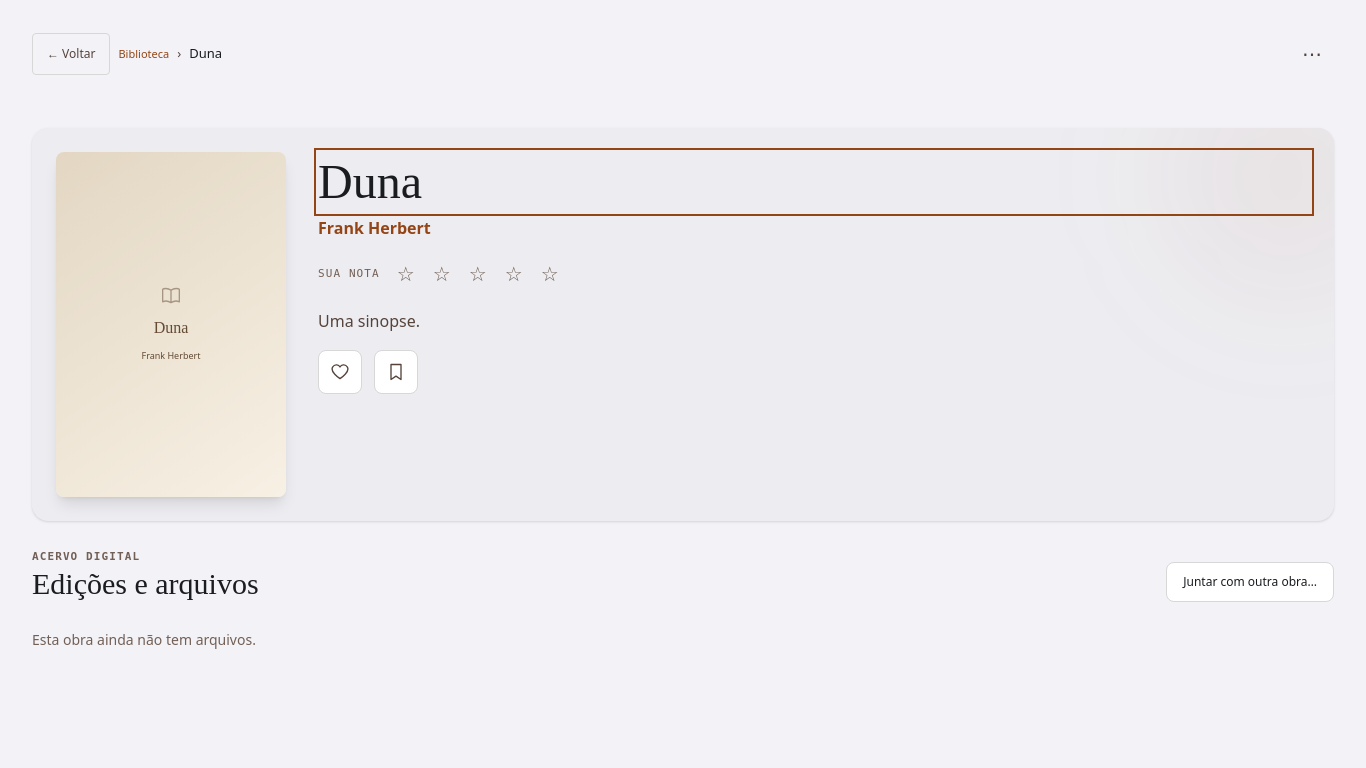
Test: the sheet of a work: the actions for owner and admin (#70) › has no mark when nothing waits
Click the button "⋯": (1312, 54) [1290,32,1334,76]
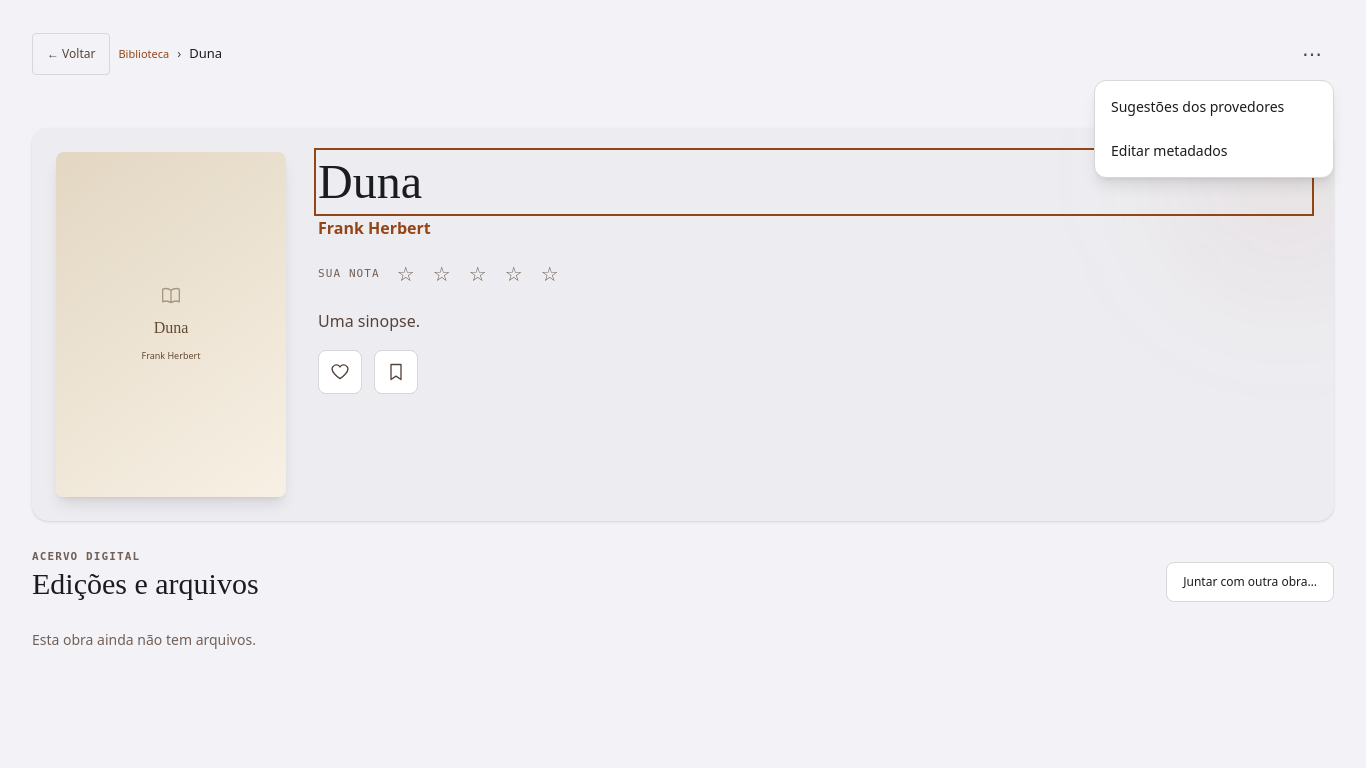
Check: the menu item "Sugestões dos provedores" is shown, box [1095,85,1333,129]
